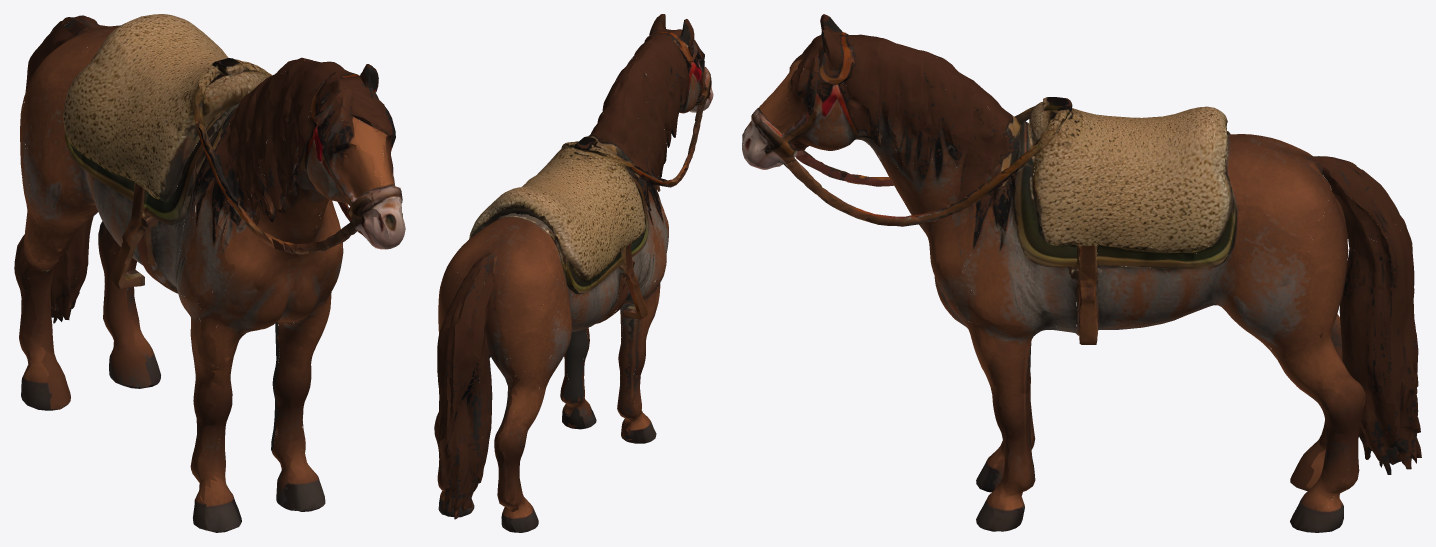
Rendered from caballo_alazan.glb.
The picture shows the model from 3 angles, left to right: view 1: azimuth 30°, elevation 25°; view 2: azimuth 150°, elevation 25°; view 3: azimuth 270°, elevation 25°; orthographic projection. The views are drawn at different scales.
Parts seen in each view (by area): view 1: caballo_alazan; view 2: caballo_alazan; view 3: caballo_alazan.
Boxes of the visible parts, x1,y1,x2,y2 form: caballo_alazan: (14, 14, 405, 532); caballo_alazan: (434, 14, 713, 532); caballo_alazan: (742, 14, 1421, 532).
Bounding box in the file's own units: 0.7619 × 1.9 × 2.42.
Materials: 1 (1 with a texture image).
